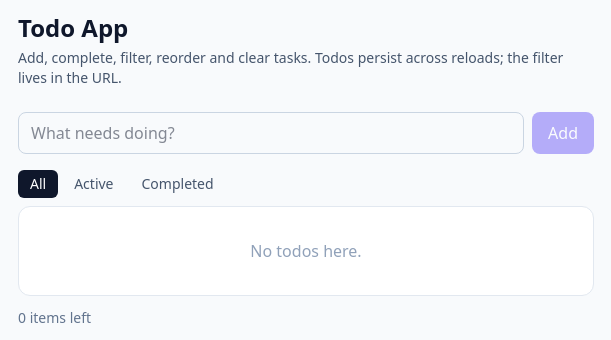
Test: TodoApp › toggles completion and updates the remaining count
Type "Ship it" into the field named "New todo" at (271, 133), box [18,112,524,154]
Then press Enter
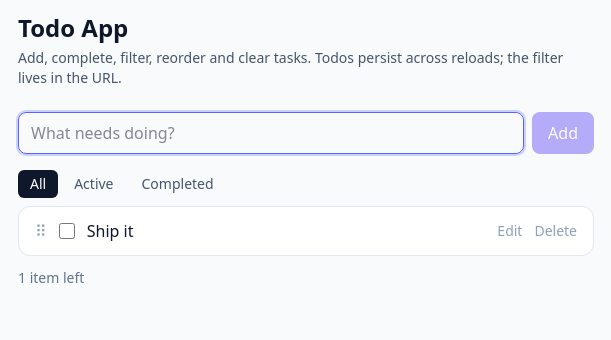
Click the checkbox at (67, 231), box [59,223,75,239]
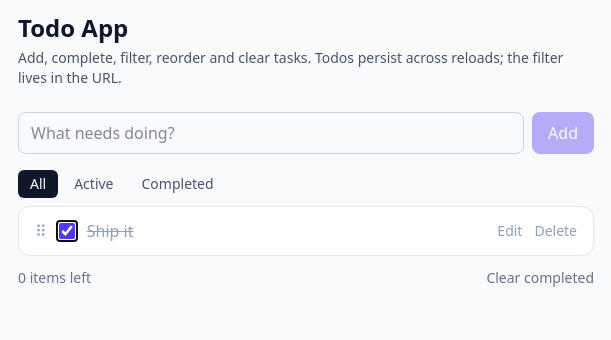
Expected: the text "0 items left" is shown, [18,268,91,288]
